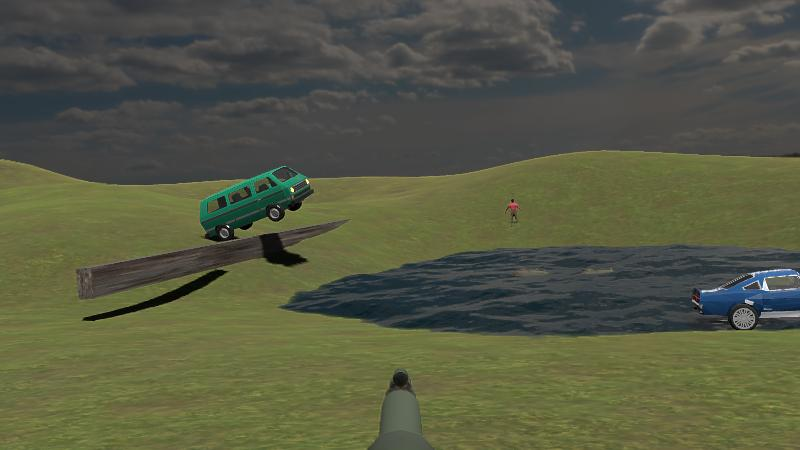car: (199, 169, 314, 243), (689, 267, 800, 332)
